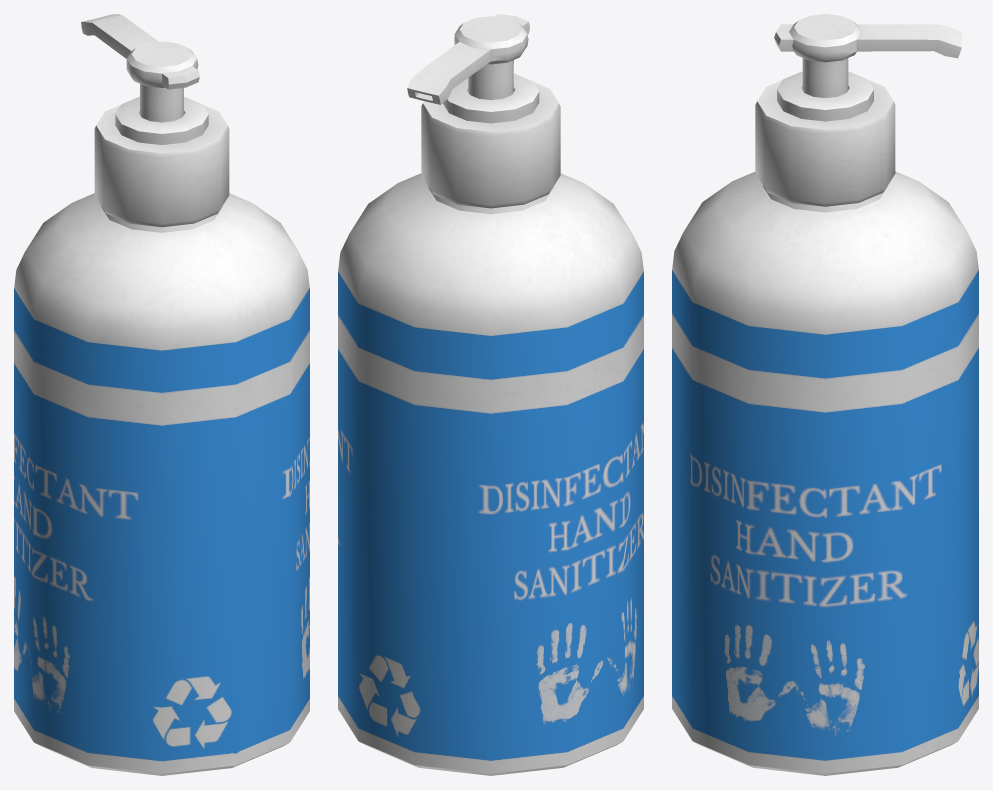
The picture shows the model from 3 angles, left to right: view 1: azimuth 30°, elevation 25°; view 2: azimuth 150°, elevation 25°; view 3: azimuth 270°, elevation 25°; orthographic projection. The views are drawn at different scales.
Parts seen in each view (by area): view 1: bottle, cap, top; view 2: bottle, cap, top; view 3: bottle, cap, top.
Boxes of the visible parts, left/top/right/bottom form: bottle: left=14, top=193, right=309, bottom=775; cap: left=94, top=97, right=229, bottom=227; top: left=81, top=14, right=199, bottom=122; bottle: left=338, top=173, right=643, bottom=775; cap: left=421, top=73, right=560, bottom=208; top: left=407, top=14, right=529, bottom=104; bottle: left=672, top=171, right=978, bottom=775; cap: left=755, top=71, right=895, bottom=206; top: left=774, top=14, right=961, bottom=97.
Bounding box in the file's own units: 0.8089 × 2 × 0.8089.
Materials: 1 (1 with a texture image).
